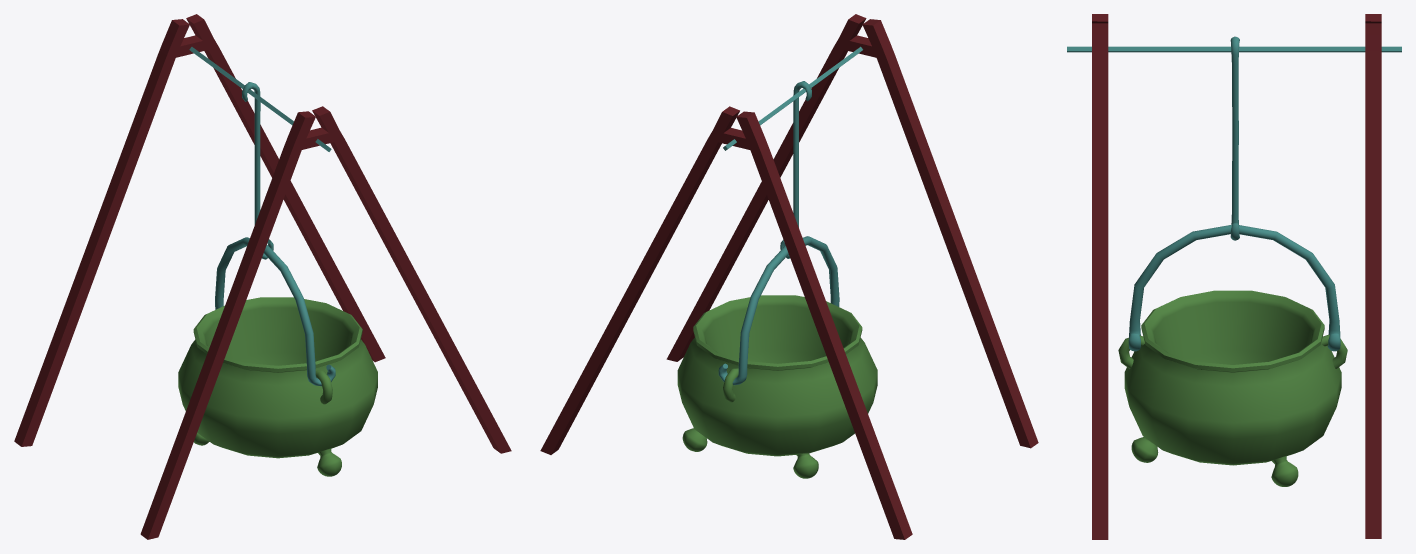
Rendered from Cauldron.fbx.
The picture shows the model from 3 angles, left to right: view 1: azimuth 30°, elevation 25°; view 2: azimuth 150°, elevation 25°; view 3: azimuth 270°, elevation 25°; orthographic projection. The views are drawn at different scales.
Parts seen in each view (by area): view 1: polySurface11, Cauldron2, polySurface10; view 2: polySurface11, Cauldron2, polySurface10; view 3: Cauldron2, polySurface11, polySurface10.
Part boxes in pixels (x1,y1,x2,y2): polySurface11: (14, 14, 511, 539); Cauldron2: (178, 297, 377, 476); polySurface10: (189, 47, 335, 386); polySurface11: (540, 14, 1038, 539); Cauldron2: (677, 295, 877, 478); polySurface10: (718, 46, 862, 385); Cauldron2: (1118, 290, 1347, 486); polySurface11: (1092, 14, 1381, 539); polySurface10: (1067, 36, 1401, 351).
Size of the model in its own units: 4.37 by 4.44 by 3.2.
